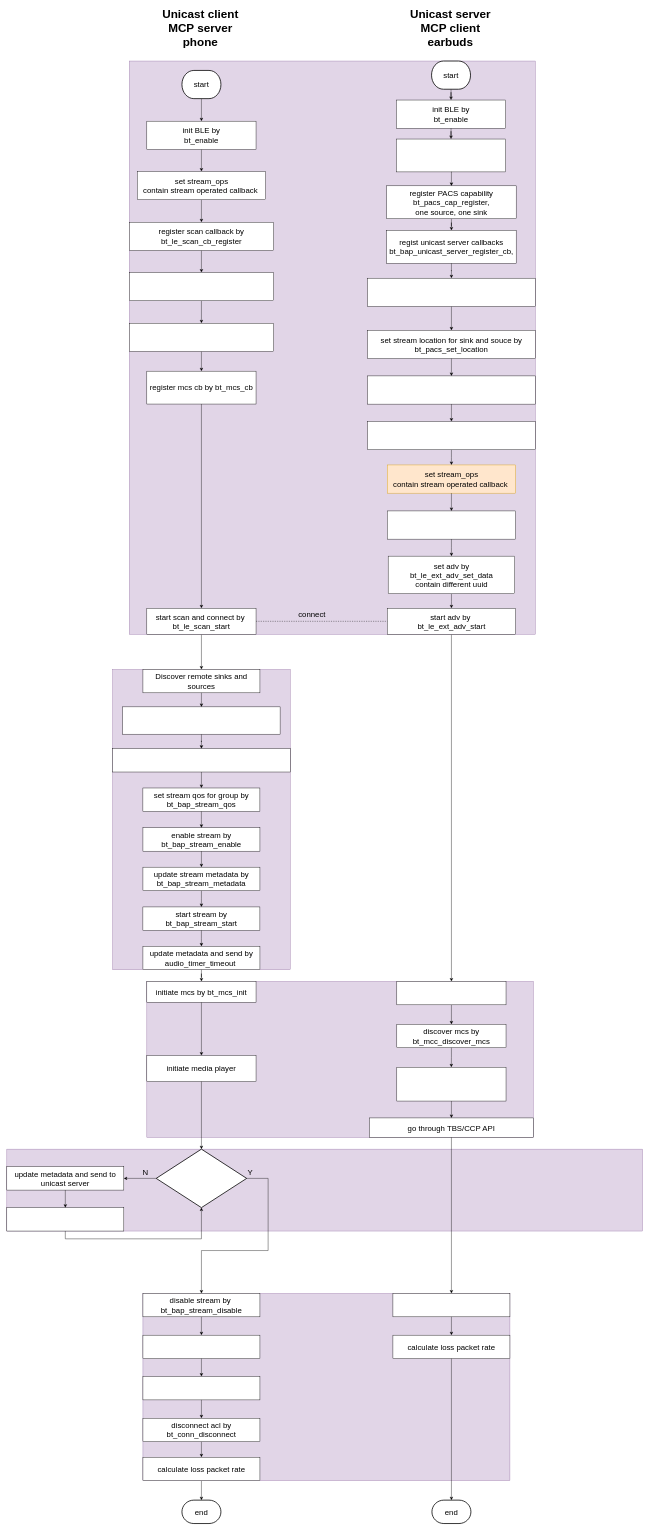
The diagram is 649 pixels wide and 1530 high, and some of its shapes have lost their labels. Here are the shapes that lost their labels. From the top down, the centre of each, then its label:
At (451,155): "register mcc cb by bt_mcc_cb".
At (201,286): "register gatt callback for update mtu by bt_gatt_cb_register".
At (451,292): "set stream operation by bt_bap_stream_cb_register".
At (201,337): "register BAP client callback by bt_bap_unicast_client_register_cb".
At (451,390): "set support context for sink and source bt_pacs_set_supported_contexts".
At (451,435): "set available context for sink and source bt_pacs_set_available_contexts".
At (451,525): "create adv by bt_le_ext_adv_create".
At (201,720): "create unicast group to set PPT params by bt_audio_unicast_group_create".
At (201,760): "configure stream codec for sink and source by bt_bap_stream_config".
At (451,993): "init mcc module by bt_mcc_init".
At (451,1084): "Pause current audio, move to the first group, first track, first segment".
At (201,1178): "test end?".
At (65,1219): "sleep 10 ms".
At (451,1305): "wait for disconnect".
At (201,1347): "release stream by bt_bap_stream_release".
At (201,1388): "delete unicast group by bt_bap_unicast_group_delete".
